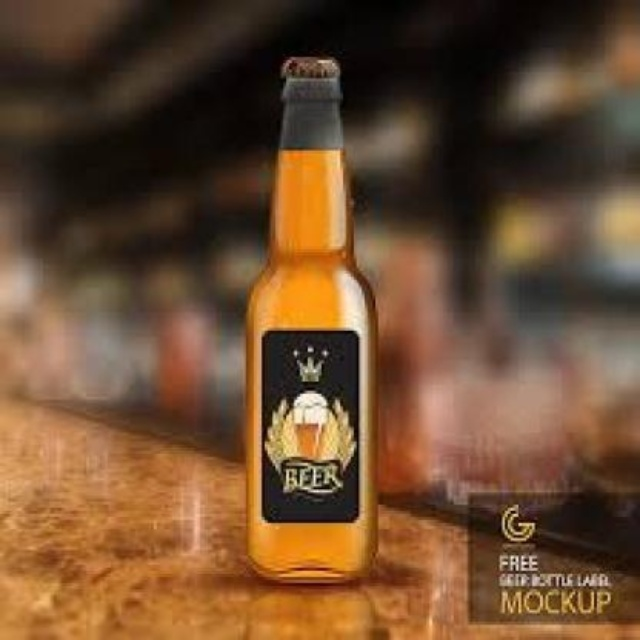trash: (246, 57, 375, 580)
